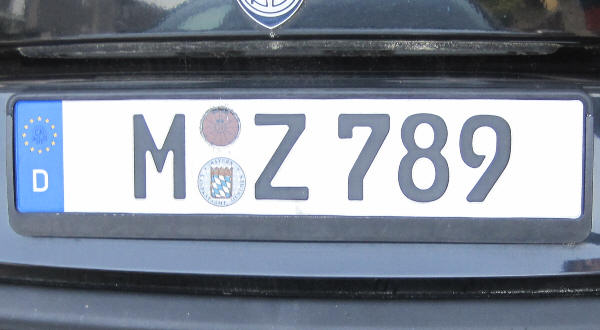license_plate: (13, 98, 586, 219)
